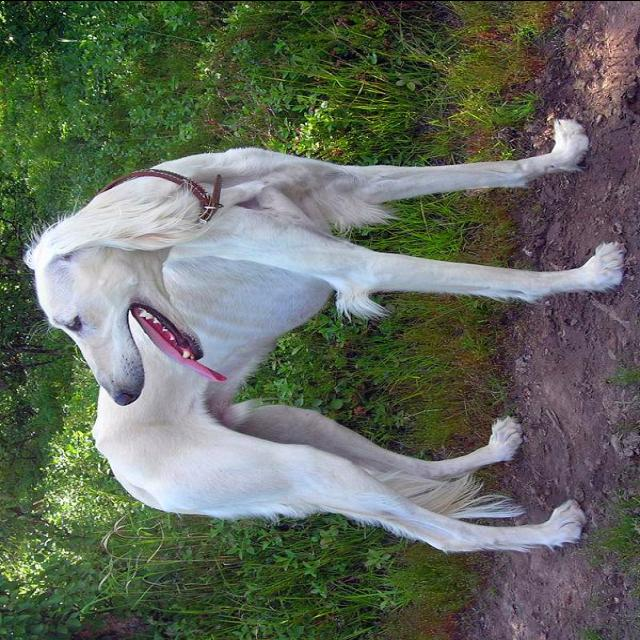saluki: (22, 114, 628, 554)
